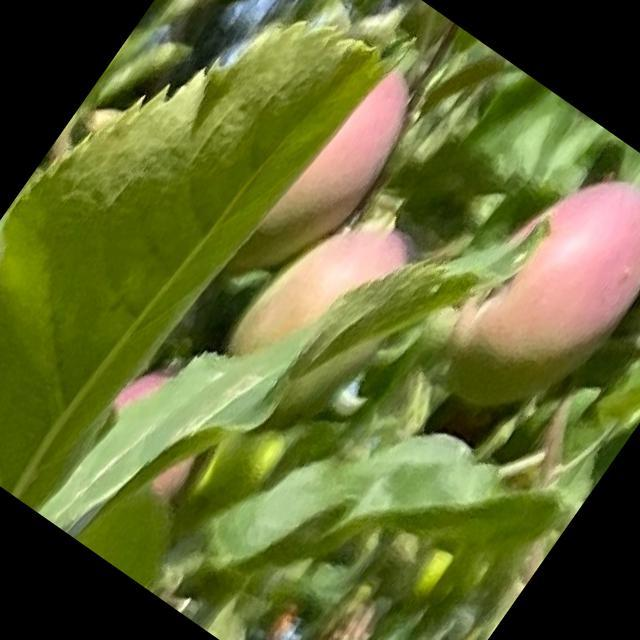100-_ripeness: (420, 145, 639, 440), (218, 56, 432, 316), (218, 185, 424, 415), (81, 355, 231, 507)
